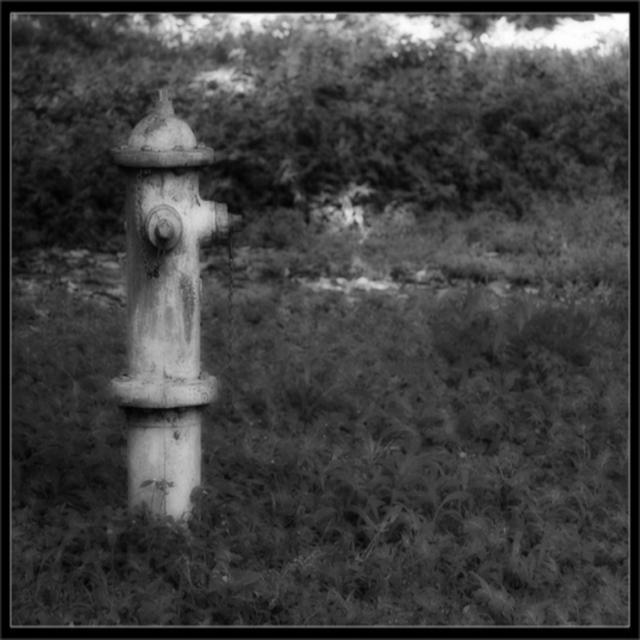fire_hydrant: (106, 87, 241, 528)
